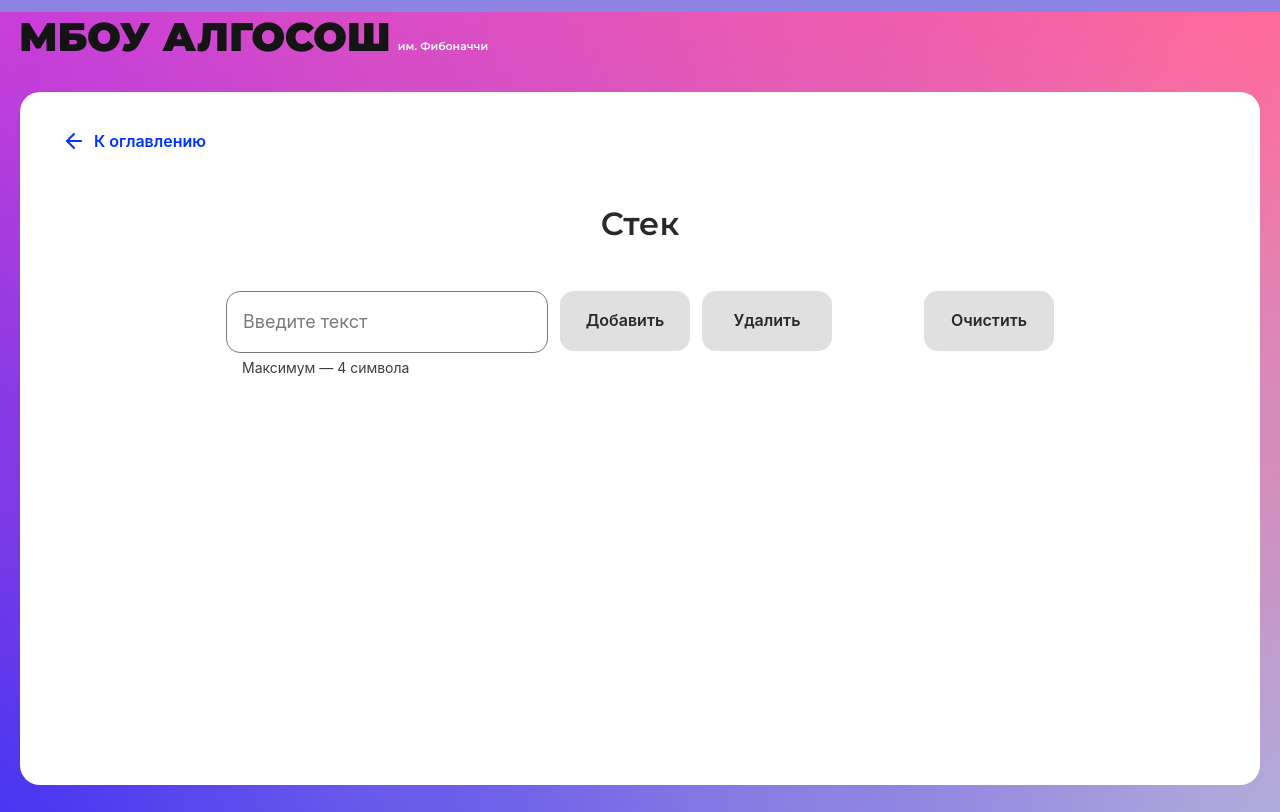
Test: stack › should have disabled button if input is empty
Expected: the button "Добавить" is disabled, x1=560 y1=291 x2=690 y2=351
Expected: the button "Удалить" is disabled, x1=702 y1=291 x2=832 y2=351
Type "5" into the field with placeholder "Введите текст".
click(387, 322); type("5")  # box x1=226 y1=291 x2=548 y2=353
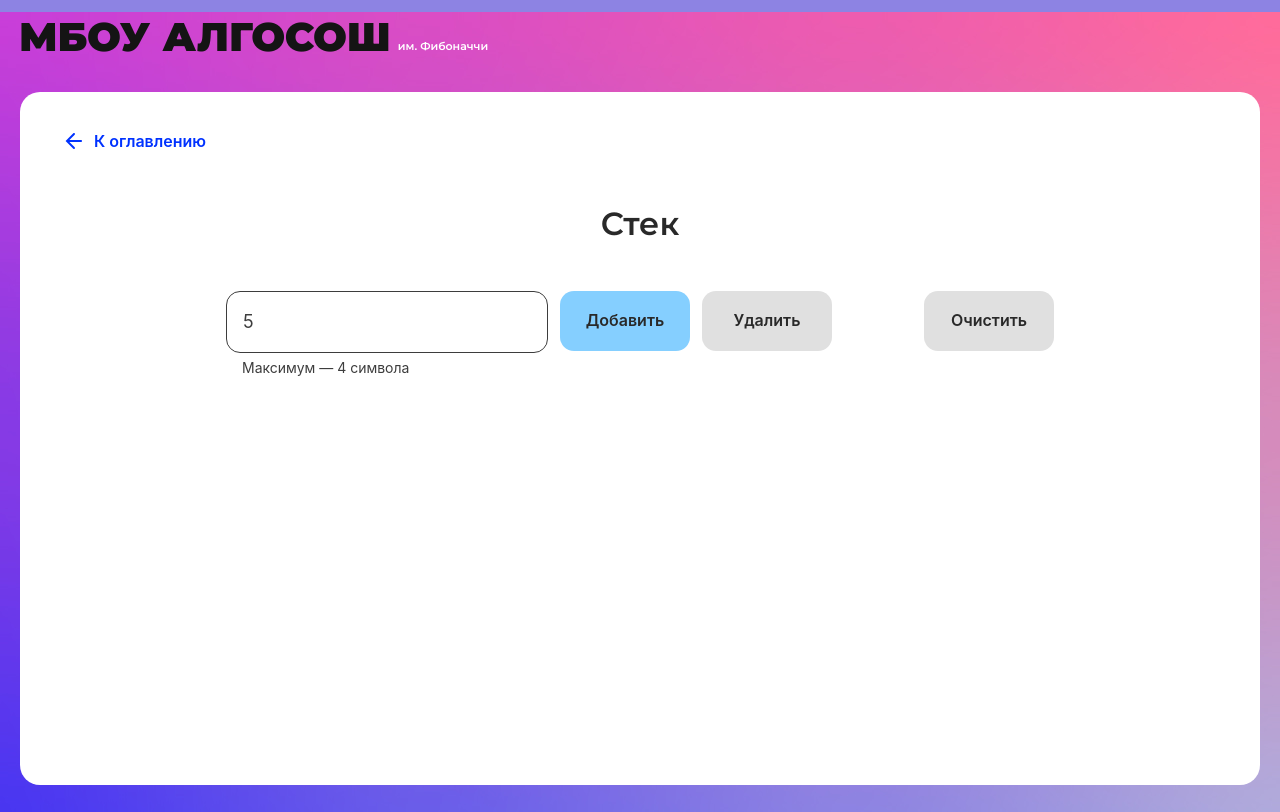
Click the button "Добавить".
click(625, 321)  # box x1=560 y1=291 x2=690 y2=351
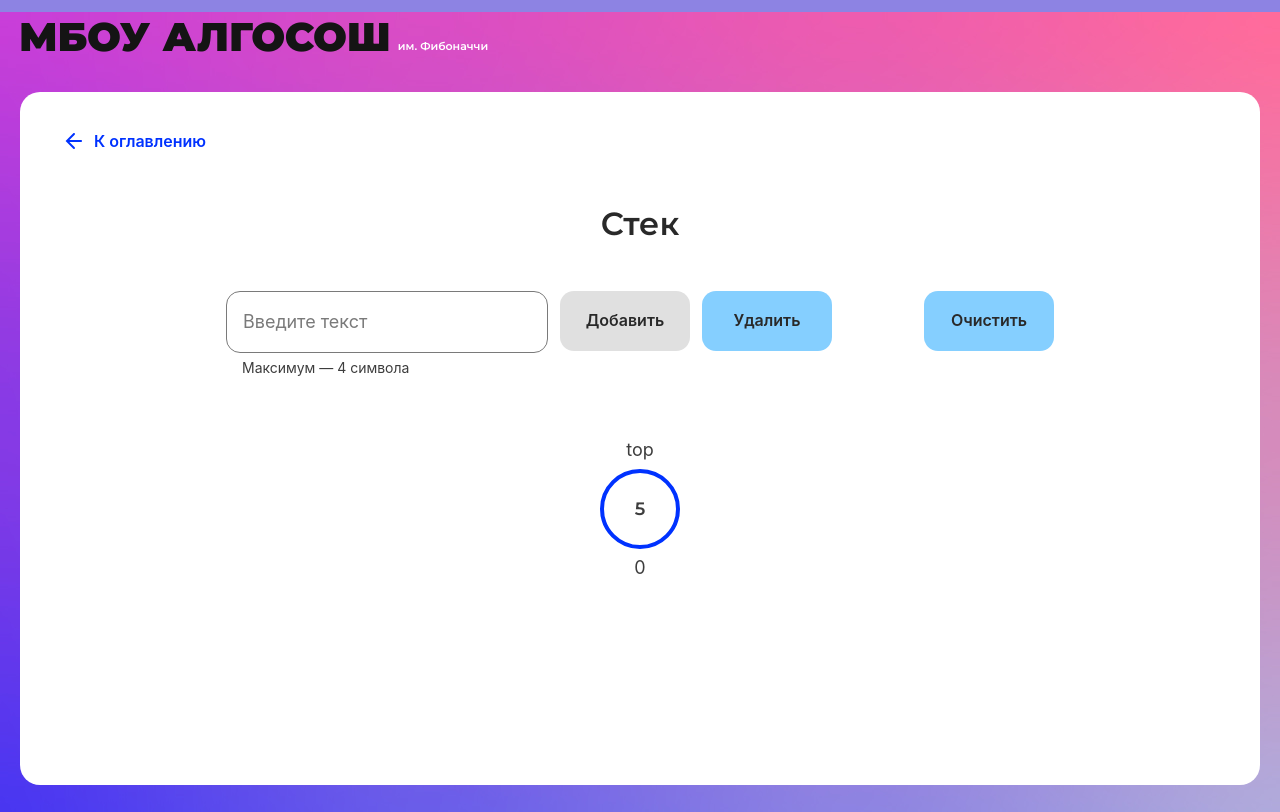
Expected: the button "Добавить" is disabled, x1=560 y1=291 x2=690 y2=351
